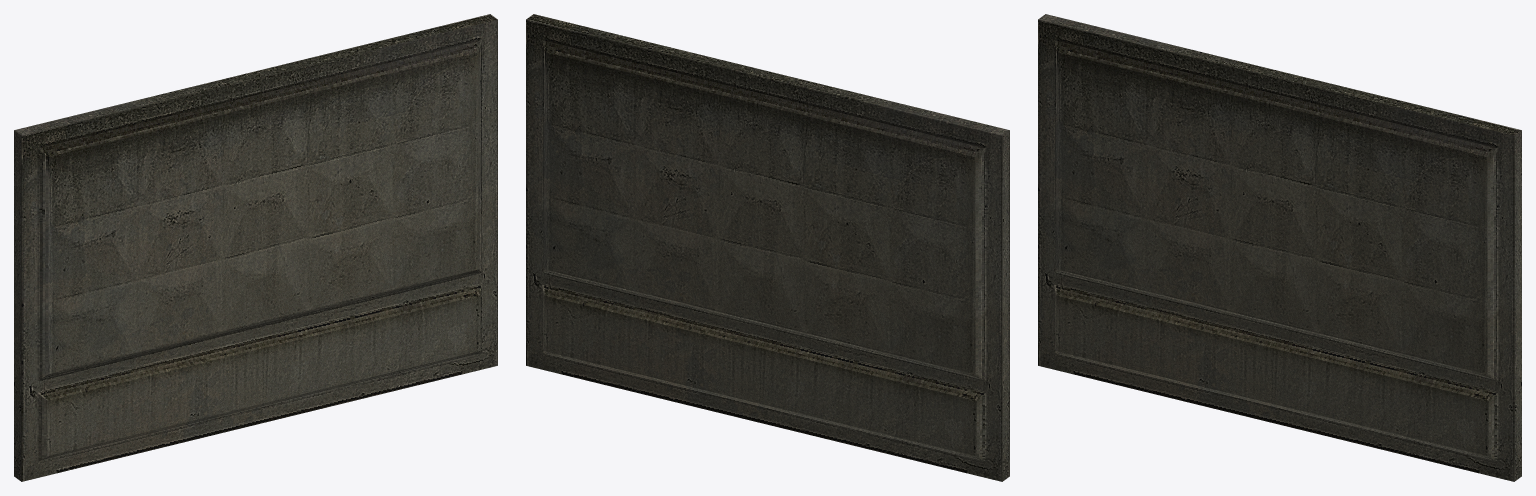
Rendered from concrete_fence_hr_1.glb.
3 views of the same model, side by side, from view 1: azimuth 30°, elevation 25°; view 2: azimuth 150°, elevation 25°; view 3: azimuth 330°, elevation 25° (orthographic).
Parts seen in each view (by area): view 1: concrete_fence_hr_1; view 2: concrete_fence_hr_1; view 3: concrete_fence_hr_1.
Boxes of the visible parts, x1,y1,x2,y2 form: concrete_fence_hr_1: (14,14,497,481); concrete_fence_hr_1: (526,14,1009,481); concrete_fence_hr_1: (1038,14,1521,481).
Size of the model in its own units: 3.6 by 2.5 by 0.2.
1 material, 1 textured.
